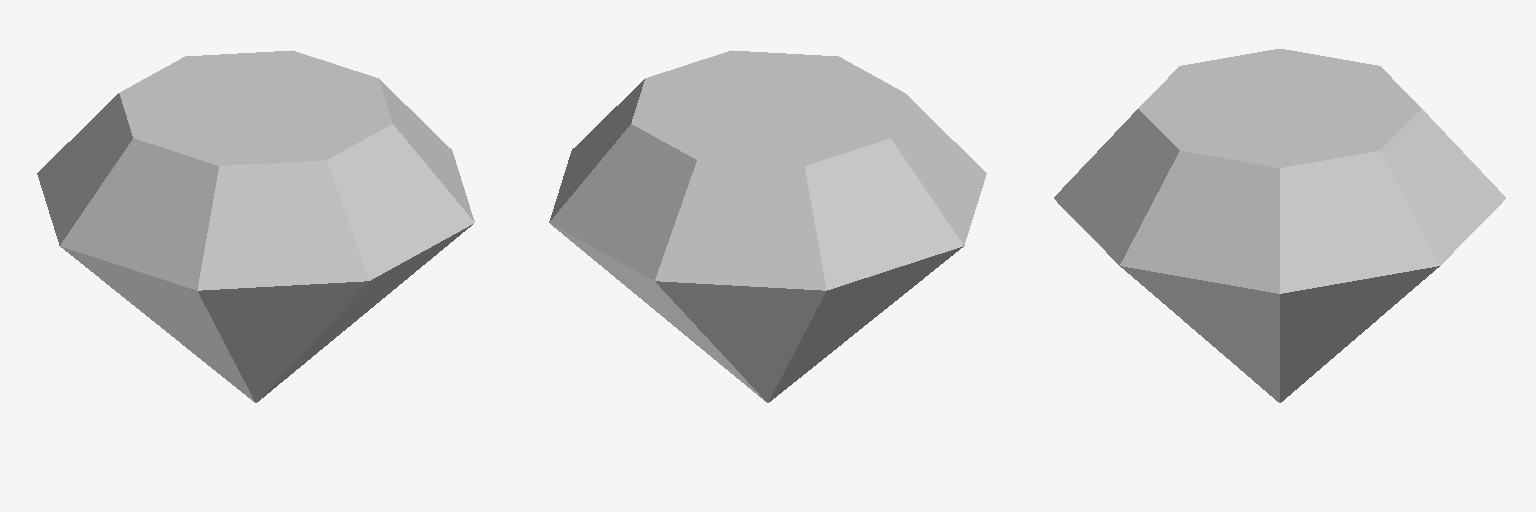
The model's file is diamond.obj.
3 views of the same model, side by side, from view 1: azimuth 30°, elevation 25°; view 2: azimuth 150°, elevation 25°; view 3: azimuth 270°, elevation 25° (orthographic).
Parts seen in each view (by area): view 1: diamond-model; view 2: diamond-model; view 3: diamond-model.
Part boxes in pixels (x1,y1,x2,y2): diamond-model: (37,50,474,402); diamond-model: (549,50,986,402); diamond-model: (1054,49,1505,402).
Bounding box in the file's own units: 160 × 115 × 160.